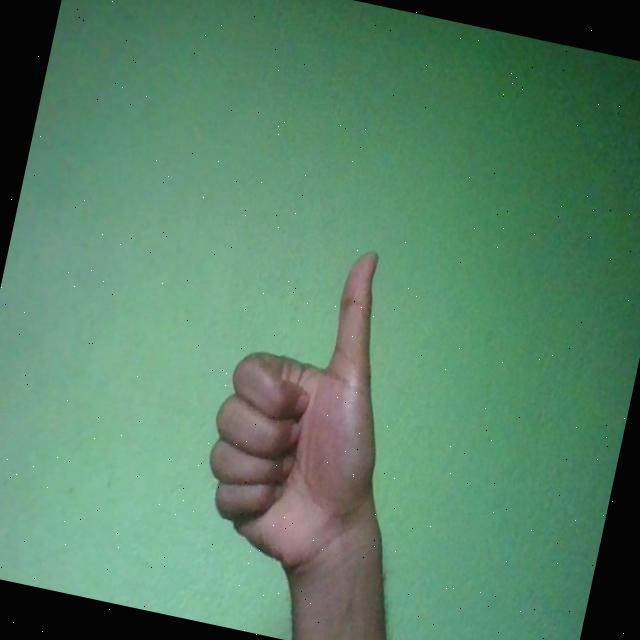Good Job: (186, 226, 420, 585)
